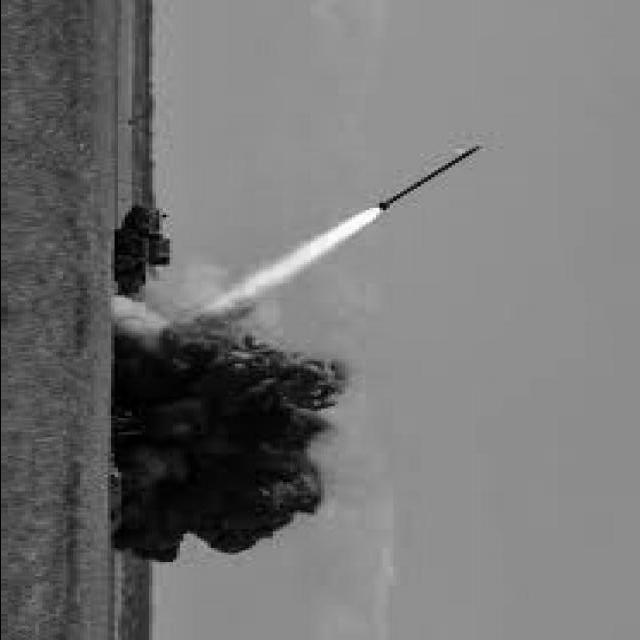missile: (368, 142, 486, 217)
